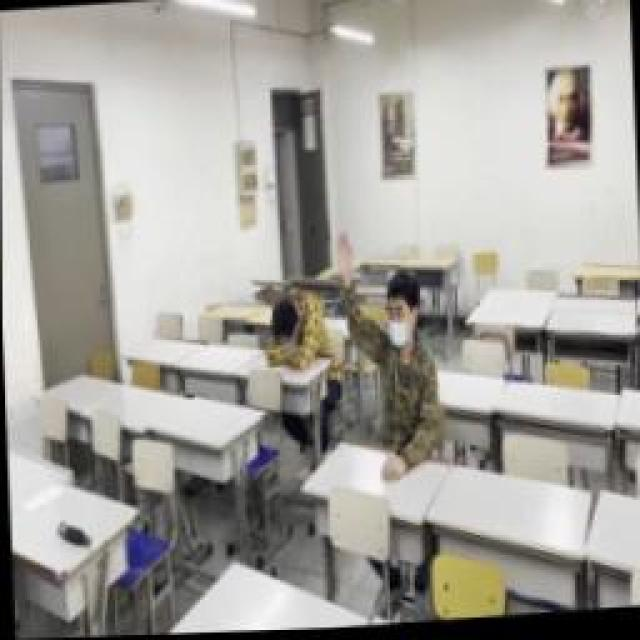sleep: (263, 298, 325, 370)
study: (335, 230, 450, 492)
